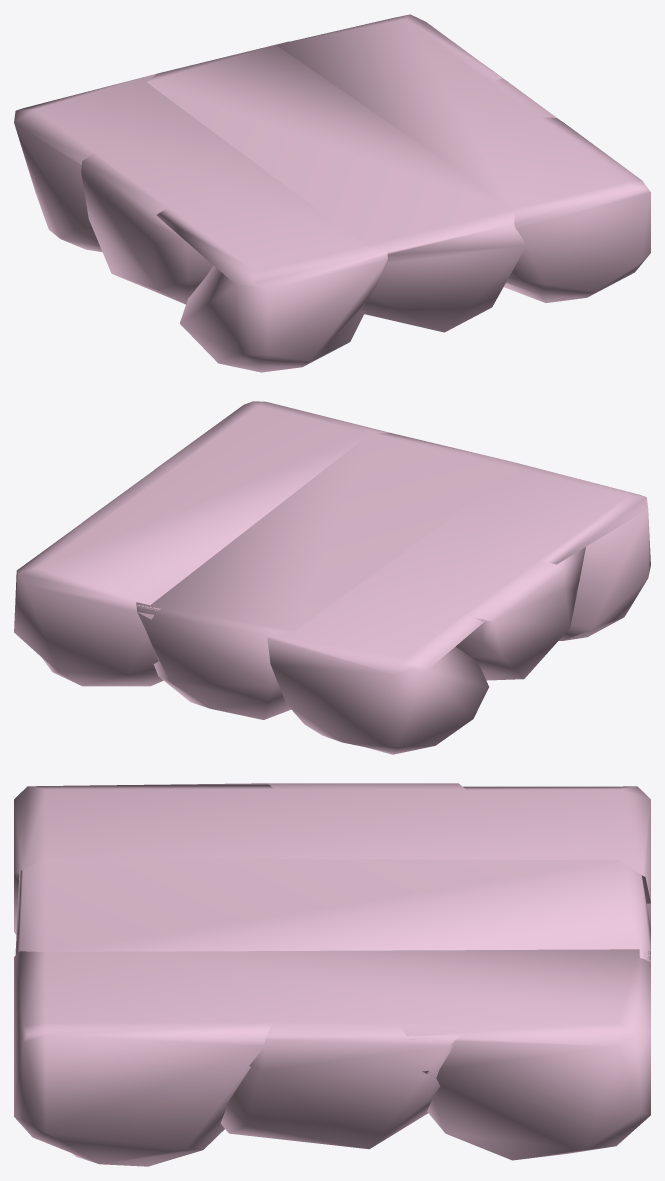
The model's file is Cloud_lp.fbx.
3 views of the same model, one above another, from view 1: azimuth 30°, elevation 25°; view 2: azimuth 150°, elevation 25°; view 3: azimuth 270°, elevation 25° (orthographic). The views are drawn at different scales.
Visible parts, largest first — view 1: cloud; view 2: cloud; view 3: cloud.
Part boxes in pixels (x1,y1,x2,y2): cloud: (14, 14, 650, 372); cloud: (14, 401, 650, 754); cloud: (14, 783, 650, 1166).
Size of the model in its own units: 557 by 157 by 577.
